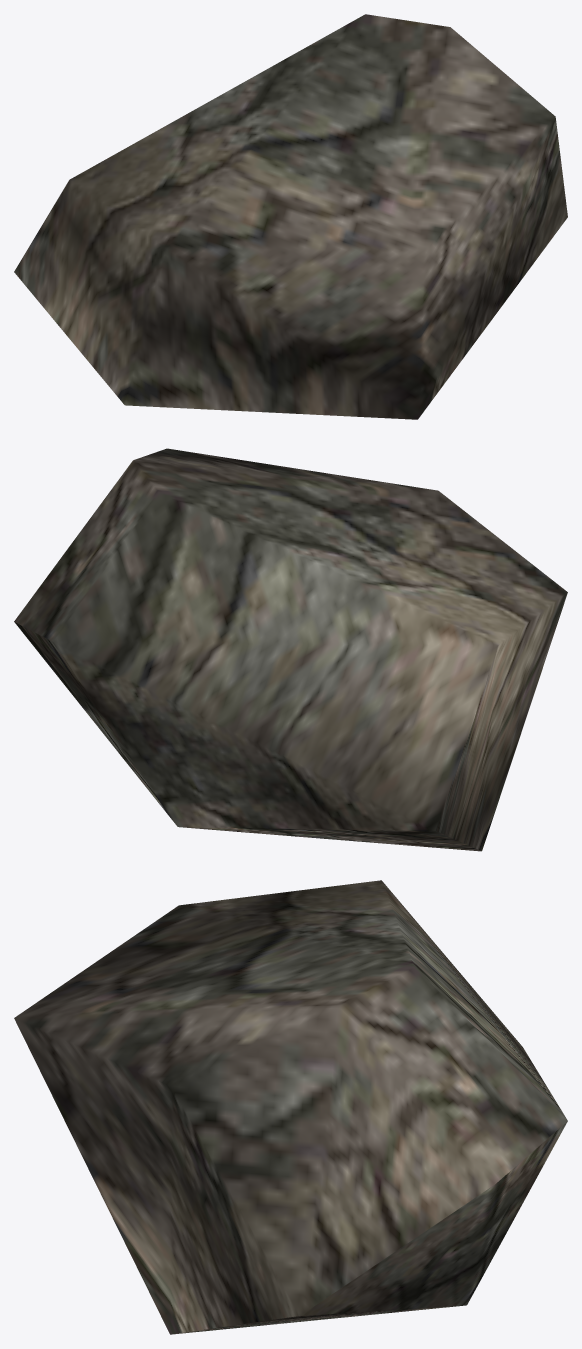
File: Rock1D.FBX
3 renders of one model, top to bottom at view 1: azimuth 30°, elevation 25°; view 2: azimuth 150°, elevation 25°; view 3: azimuth 270°, elevation 25°, orthographic. The views are drawn at different scales.
Visible parts, largest first — view 1: Rock1D_994; view 2: Rock1D_994; view 3: Rock1D_994.
Boxes of the visible parts, x1,y1,x2,y2 form: Rock1D_994: [14, 14, 567, 419]; Rock1D_994: [14, 448, 567, 851]; Rock1D_994: [14, 880, 567, 1334].
Bounding box in the file's own units: 27.45 × 18.12 × 22.99.
Materials: 1 (1 with a texture image).
